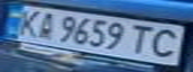5: (87, 17, 109, 50)
6: (69, 16, 93, 47)
9: (103, 19, 130, 52), (54, 12, 78, 44)
A: (30, 10, 60, 40)
C: (145, 26, 190, 60)
K: (12, 7, 45, 38)
T: (124, 22, 160, 55)
